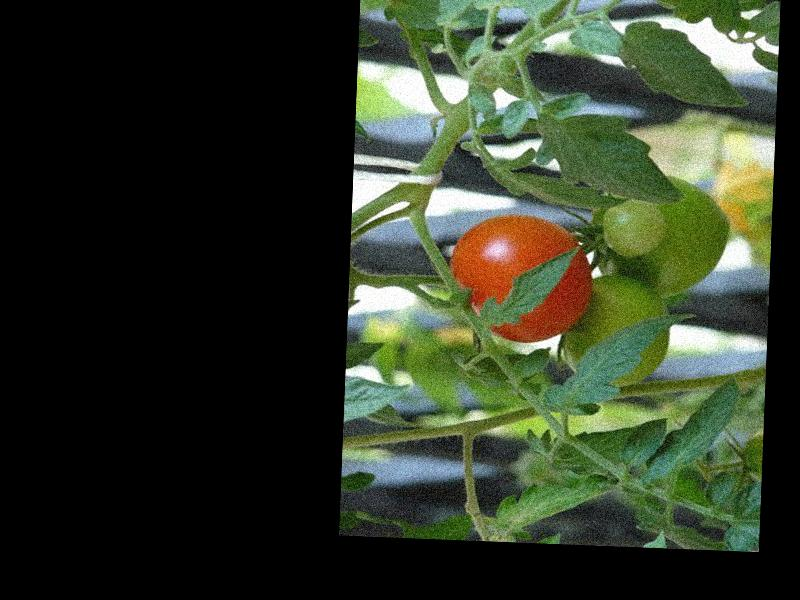Tomato: (446, 211, 593, 345)
